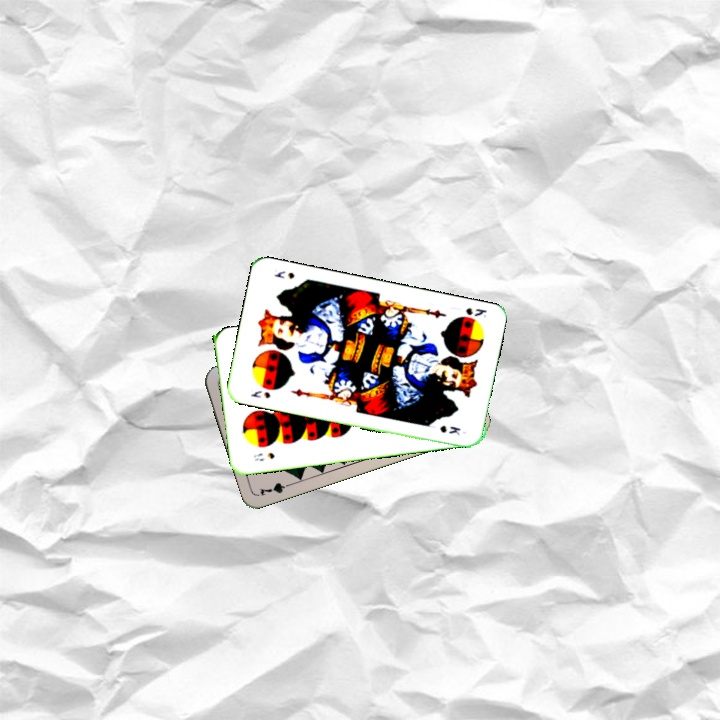G7: (255, 478, 296, 498)
S8: (249, 448, 277, 464)
SK: (462, 304, 489, 320), (247, 386, 273, 401)
